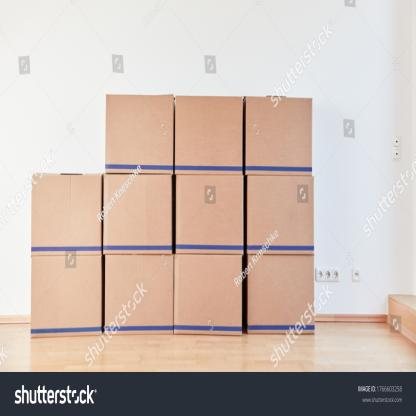box: (30, 255, 101, 339), (31, 173, 102, 256), (104, 254, 174, 337), (102, 175, 172, 256), (174, 254, 244, 334), (106, 94, 174, 176), (176, 174, 244, 256), (247, 253, 315, 335), (175, 96, 244, 176), (247, 176, 314, 256), (246, 96, 311, 176)
